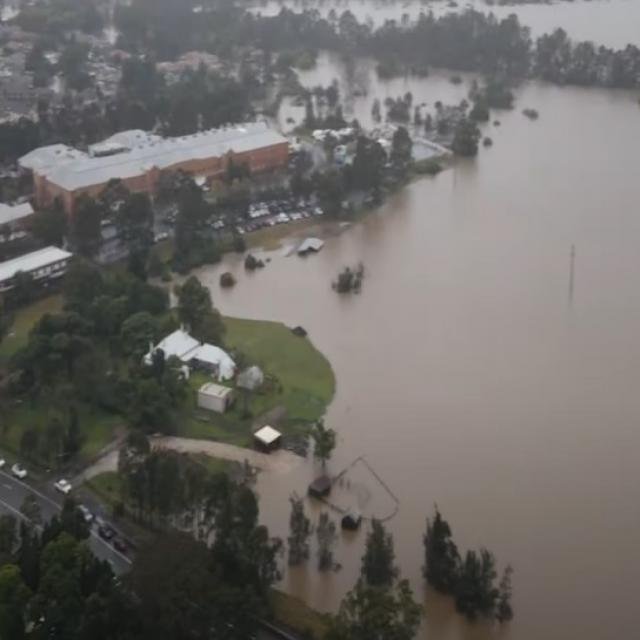flood: (199, 84, 640, 640), (246, 0, 640, 48), (297, 50, 474, 126), (276, 514, 365, 612), (149, 436, 305, 474), (321, 457, 400, 522), (257, 461, 311, 540), (71, 450, 119, 488), (305, 498, 328, 526)
house: (17, 124, 294, 189), (150, 328, 238, 379), (0, 245, 74, 296), (198, 380, 235, 414)
